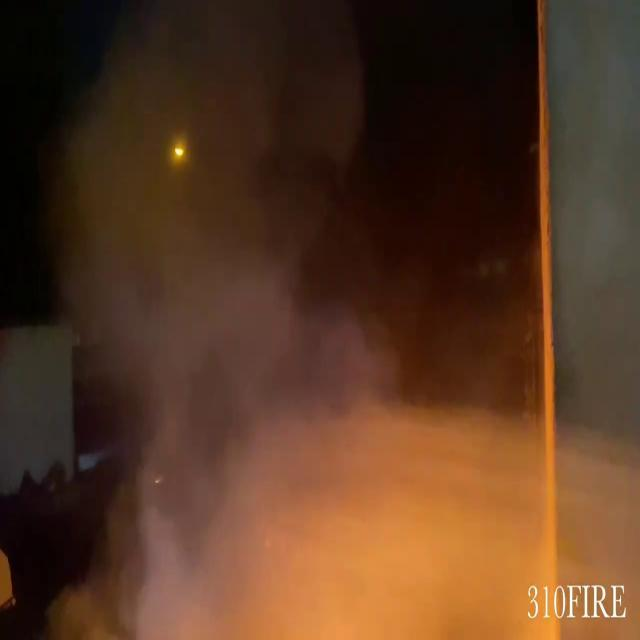Smoke: (37, 1, 529, 638)
